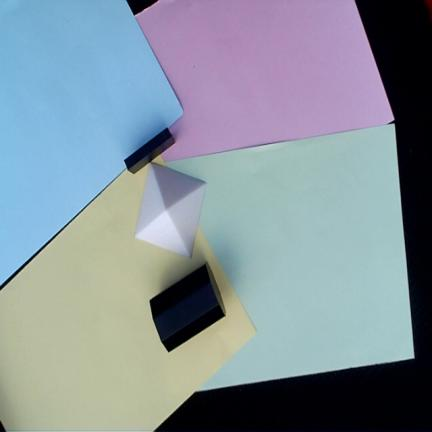Paralelepipedo: (124, 127, 175, 175)
Piramide: (134, 162, 207, 259)
Prisma_hexagonal: (149, 261, 226, 353)
